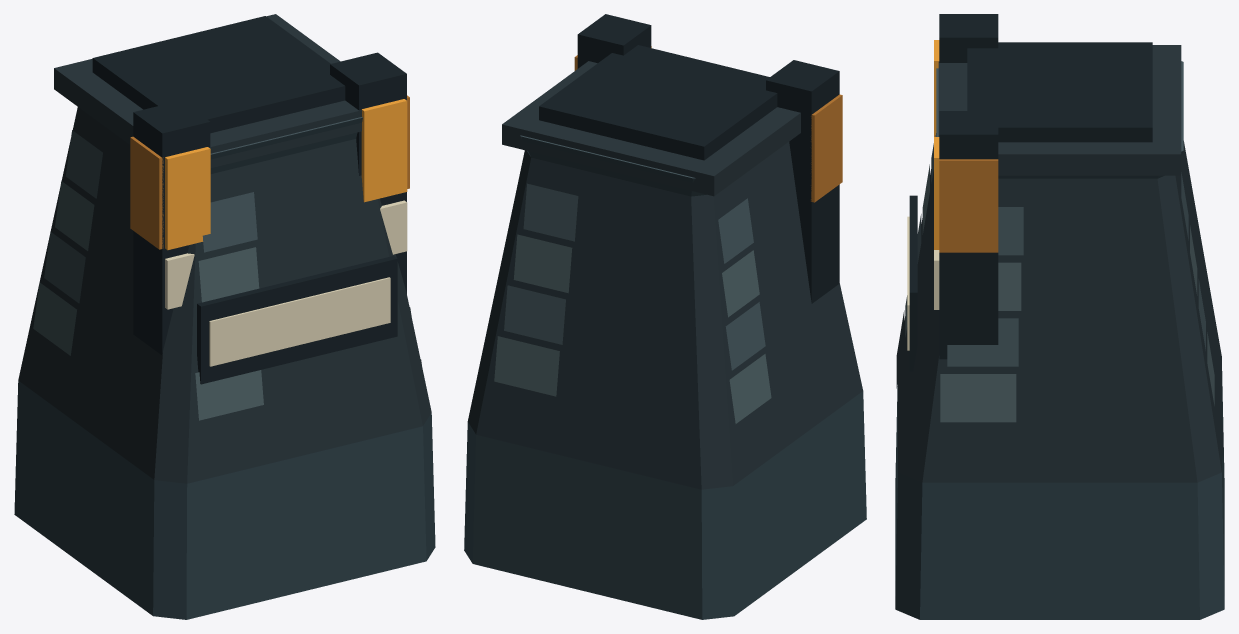
Rendered from RidgeBatteryBase.obj.
3 renders of one model, left to right at view 1: azimuth 30°, elevation 25°; view 2: azimuth 150°, elevation 25°; view 3: azimuth 270°, elevation 25°, orthographic. The views are drawn at different scales.
Parts seen in each view (by area): view 1: RidgeBatteryBase; view 2: RidgeBatteryBase; view 3: RidgeBatteryBase.
Part boxes in pixels (left/top/right/bottom): RidgeBatteryBase: left=14, top=14, right=435, bottom=619; RidgeBatteryBase: left=464, top=14, right=866, bottom=619; RidgeBatteryBase: left=895, top=14, right=1224, bottom=619.
Size of the model in its own units: 2.24 by 3.57 by 2.24.
Materials: 1 (1 with a texture image).
